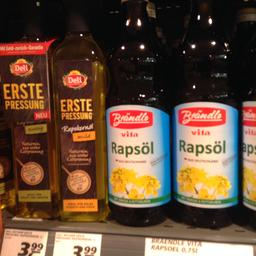oil: (172, 0, 242, 226), (102, 0, 172, 225), (48, 2, 107, 225), (4, 6, 54, 217)
